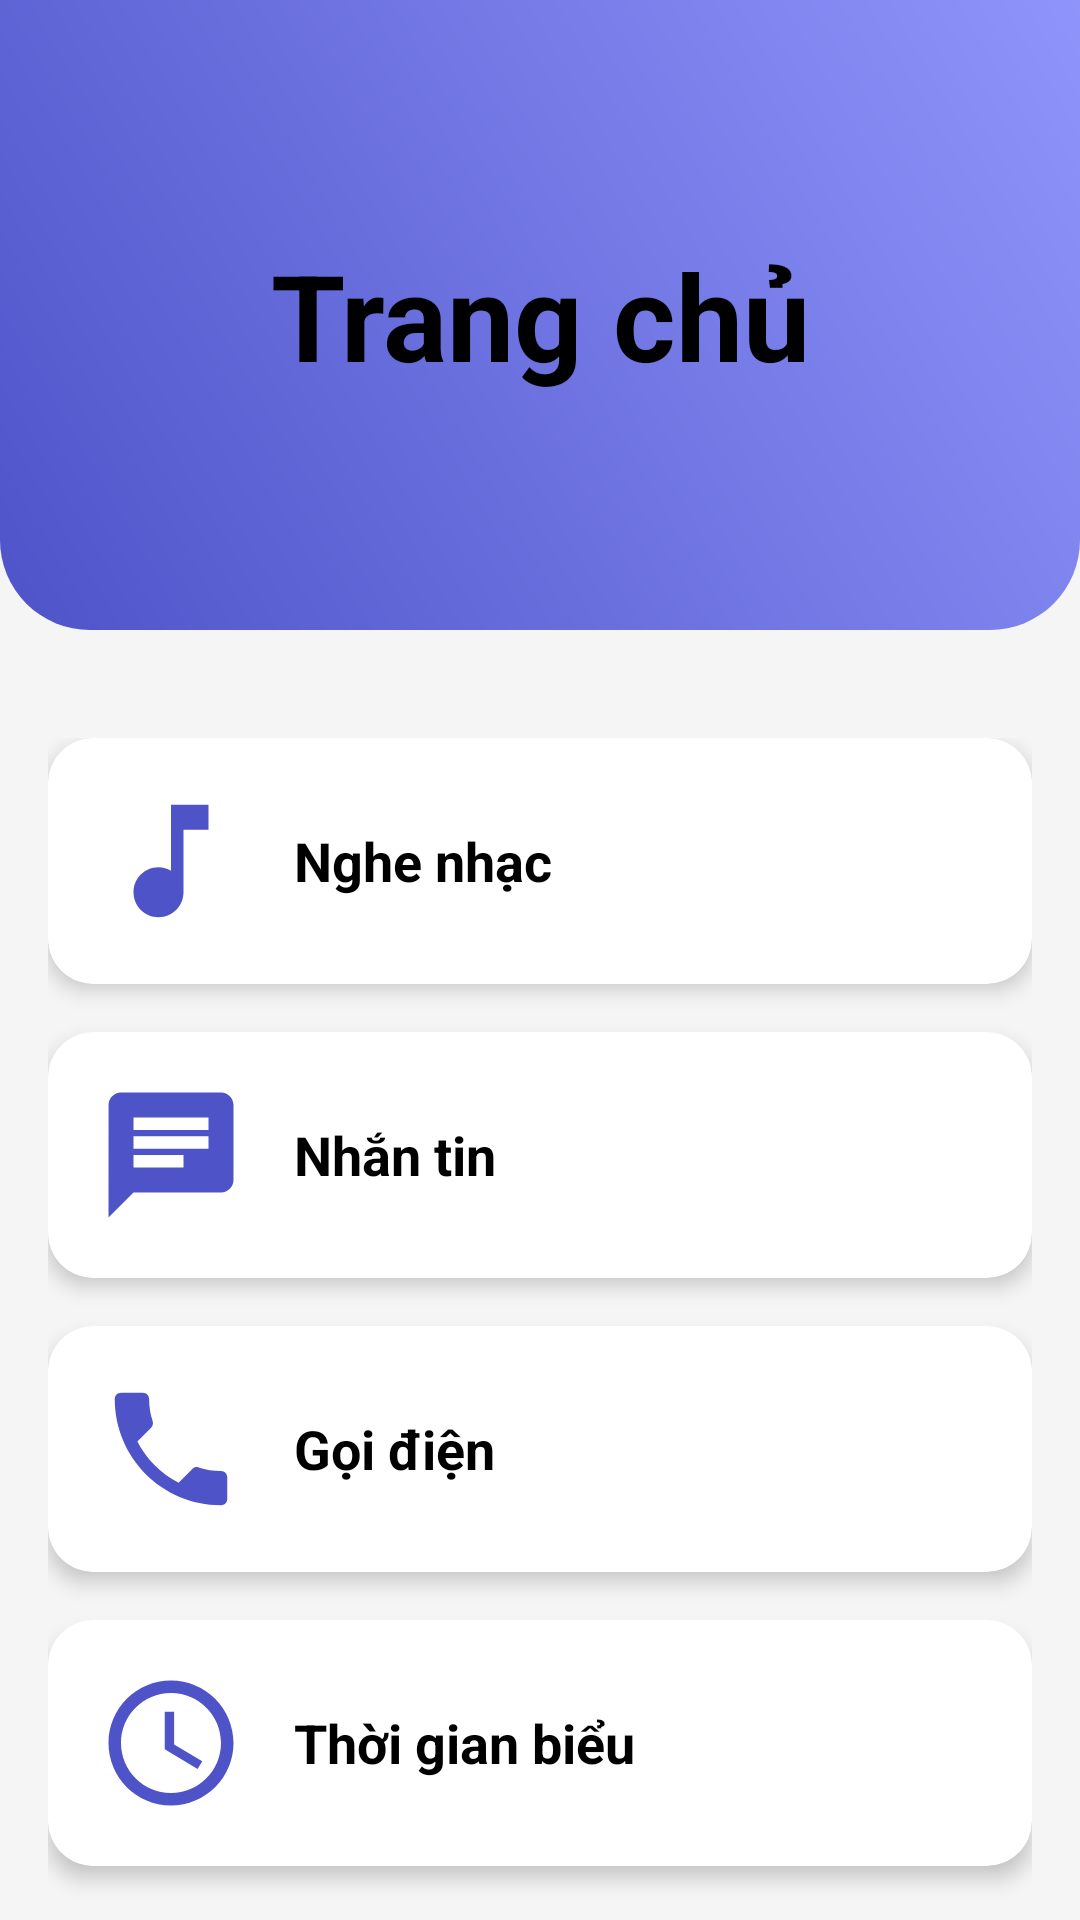

Icons on this 1080w x 1920h Android screen, each with its box as (x1=x1, y1=y1, x2=x2, y2=y2):
chat: (x1=108, y1=1092, x2=234, y2=1217)
music: (x1=133, y1=804, x2=209, y2=918)
phone: (x1=114, y1=1392, x2=228, y2=1506)
schedule: (x1=108, y1=1680, x2=234, y2=1806)
